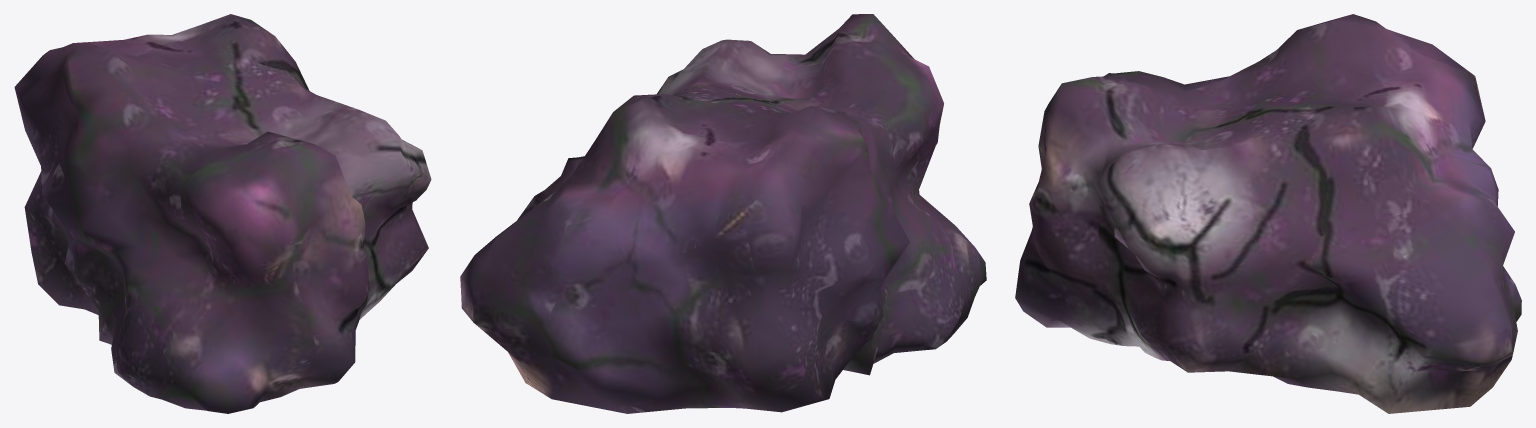
File: silicon.glb
3 renders of one model, left to right at view 1: azimuth 30°, elevation 25°; view 2: azimuth 150°, elevation 25°; view 3: azimuth 270°, elevation 25°, orthographic. The views are drawn at different scales.
Parts seen in each view (by area): view 1: Volume4; view 2: Volume4; view 3: Volume4.
Part boxes in pixels (<box>): Volume4: <box>14,14,431,413</box>; Volume4: <box>460,14,986,413</box>; Volume4: <box>1015,14,1521,413</box>.
Size of the model in its own units: 0.8421 by 0.6983 by 1.07.
1 material, 1 textured.
